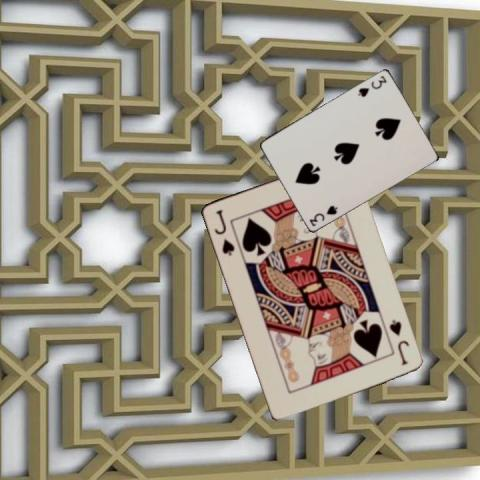3s: (355, 72, 388, 98), (306, 202, 338, 227)
Js: (211, 207, 236, 257), (386, 316, 410, 366)
